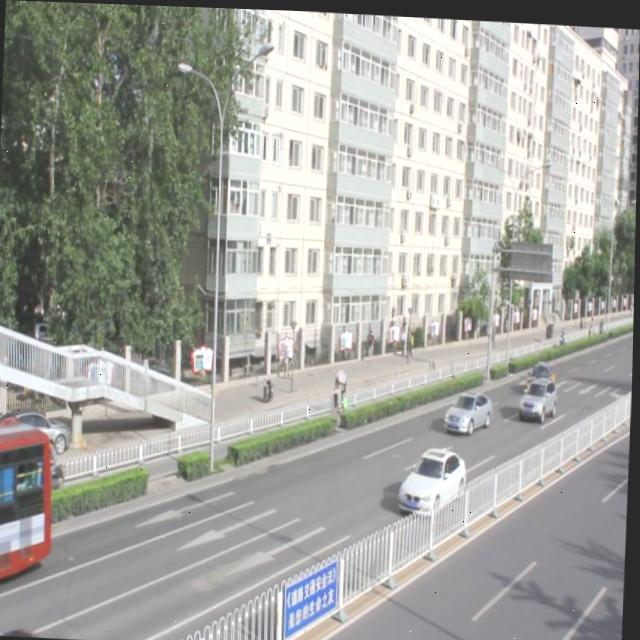car: (397, 439, 468, 514), (444, 383, 492, 431), (518, 370, 557, 414)
van: (0, 416, 59, 583)
